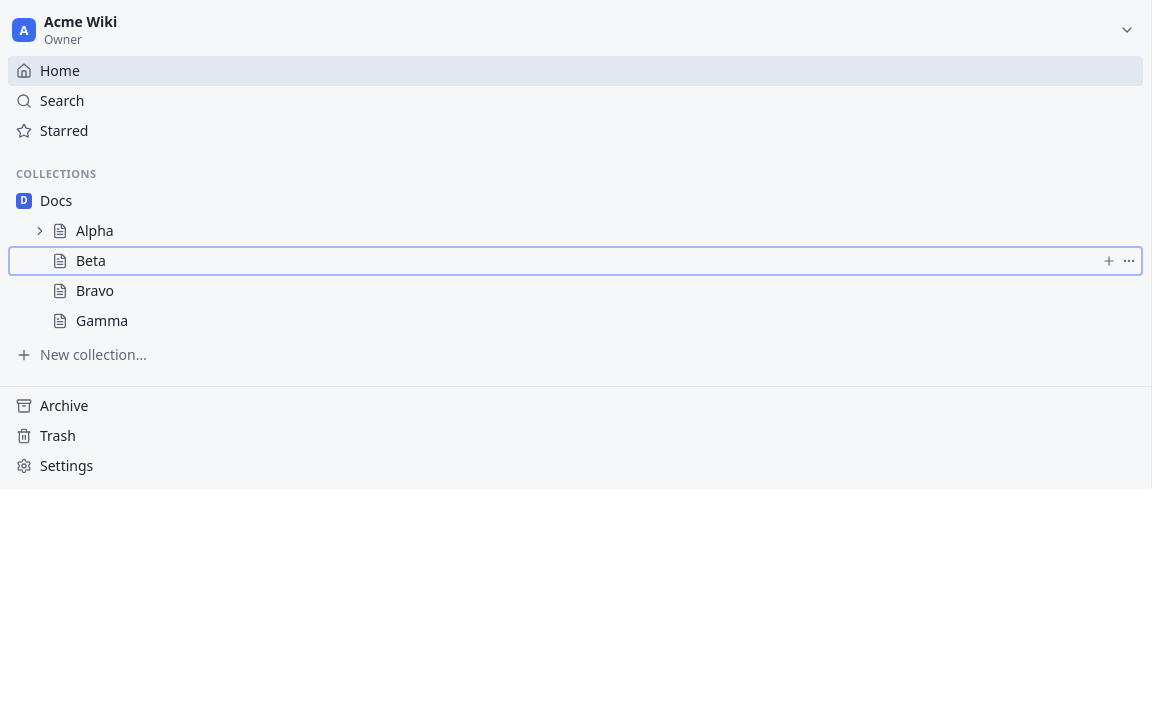
Test: tree keyboard › F2 renames inline: Enter saves, Esc cancels
This screenshot has width=1152, height=720.
Press F2 in the list item "Beta", box [8,246,1143,276]
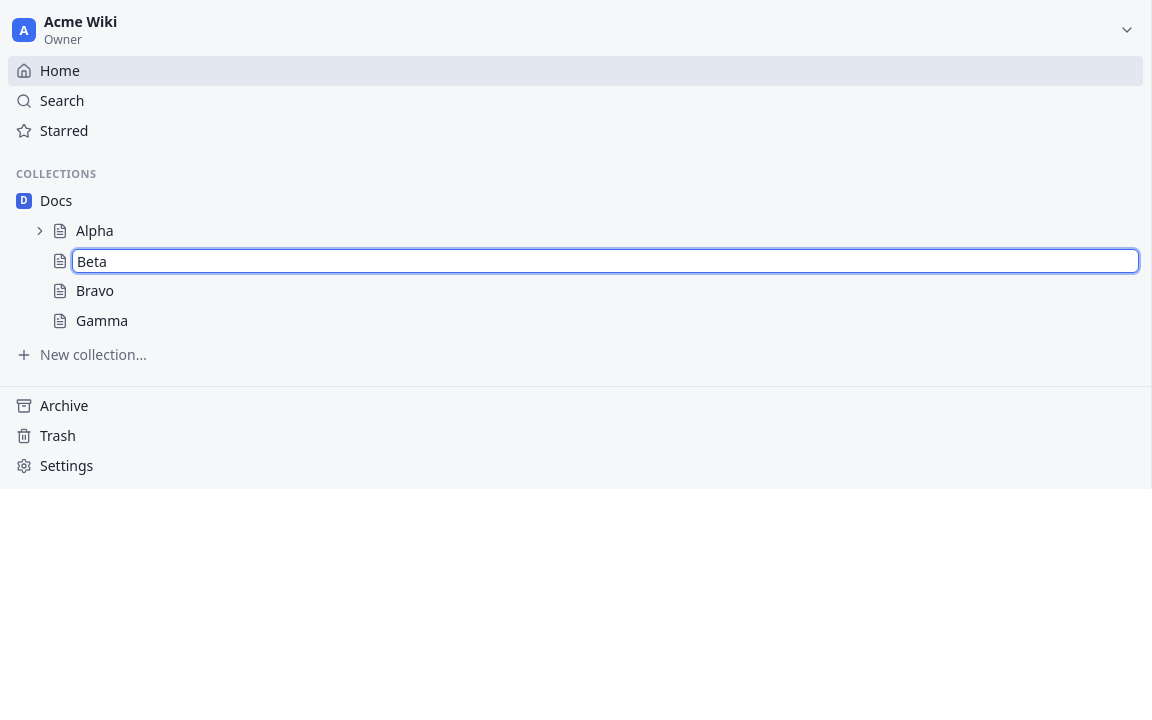
Expected: the field named "title" holds "Beta"
Replace the text in the field named "title" with "Beta renamed" at (606, 261), box [72,249,1139,273]
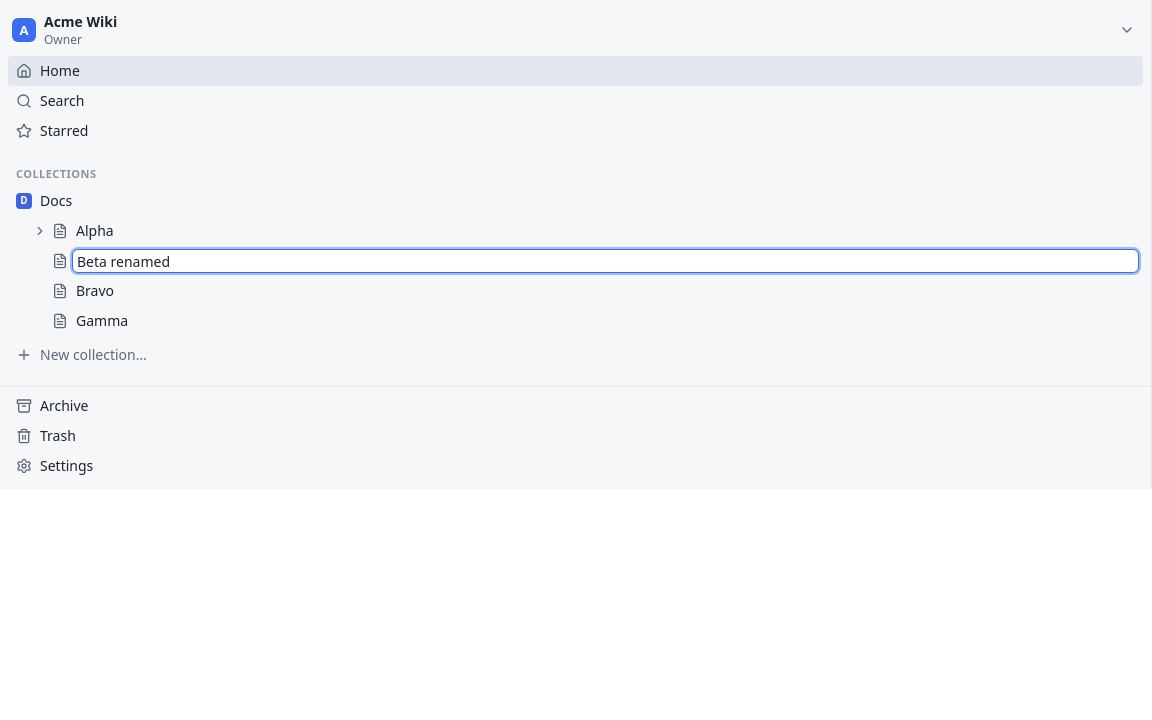
Press Enter in the field named "title", box [72,249,1139,273]
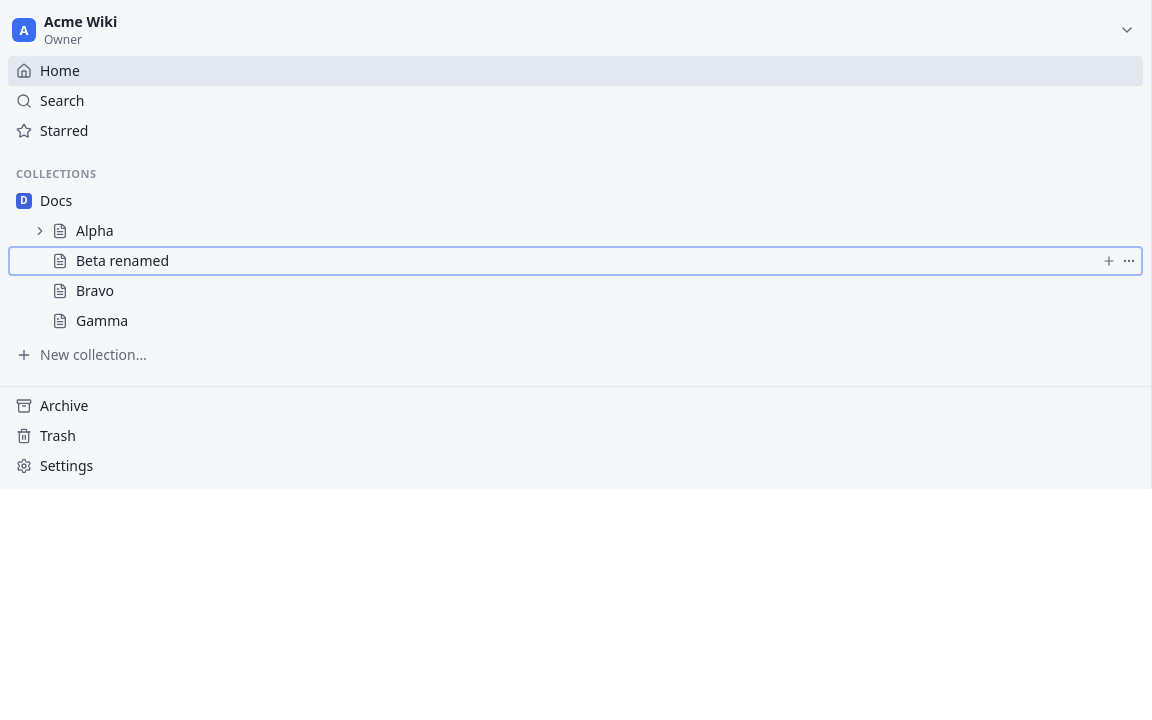
Expected: the list item "Beta renamed" is shown, [8,246,1143,276]
Press F2 in the list item "Gamma", box [52,311,128,330]
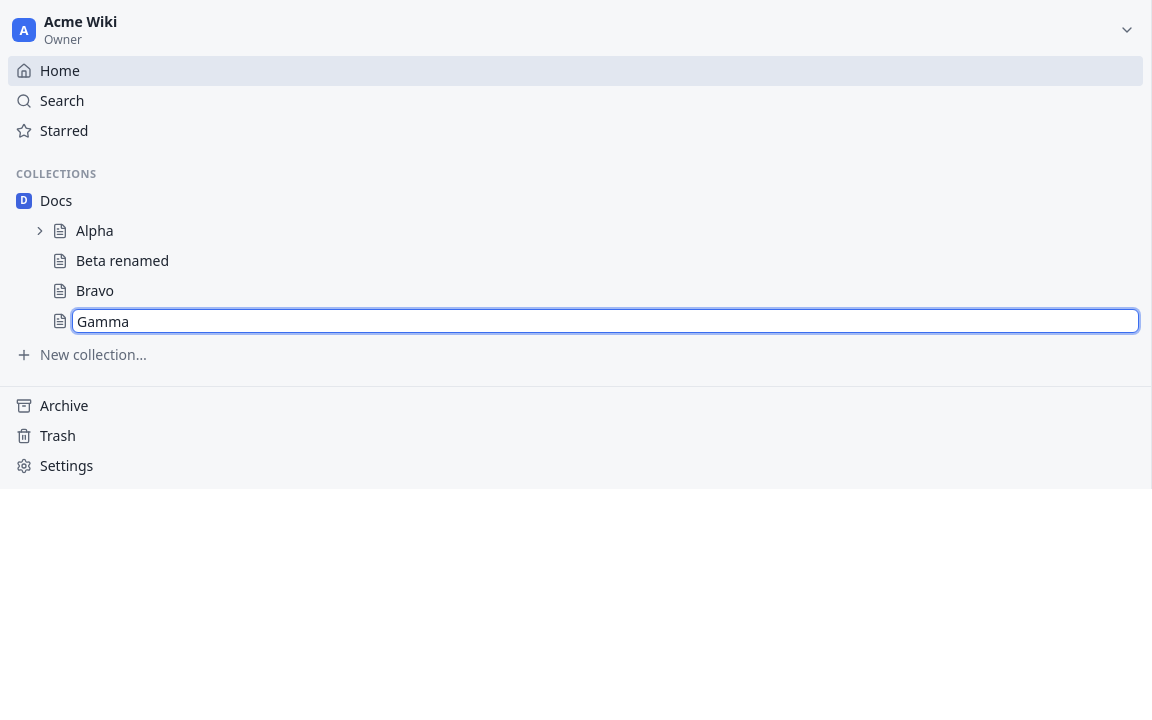
Replace the text in the field named "title" with "nope" at (606, 321), box [72,309,1139,333]
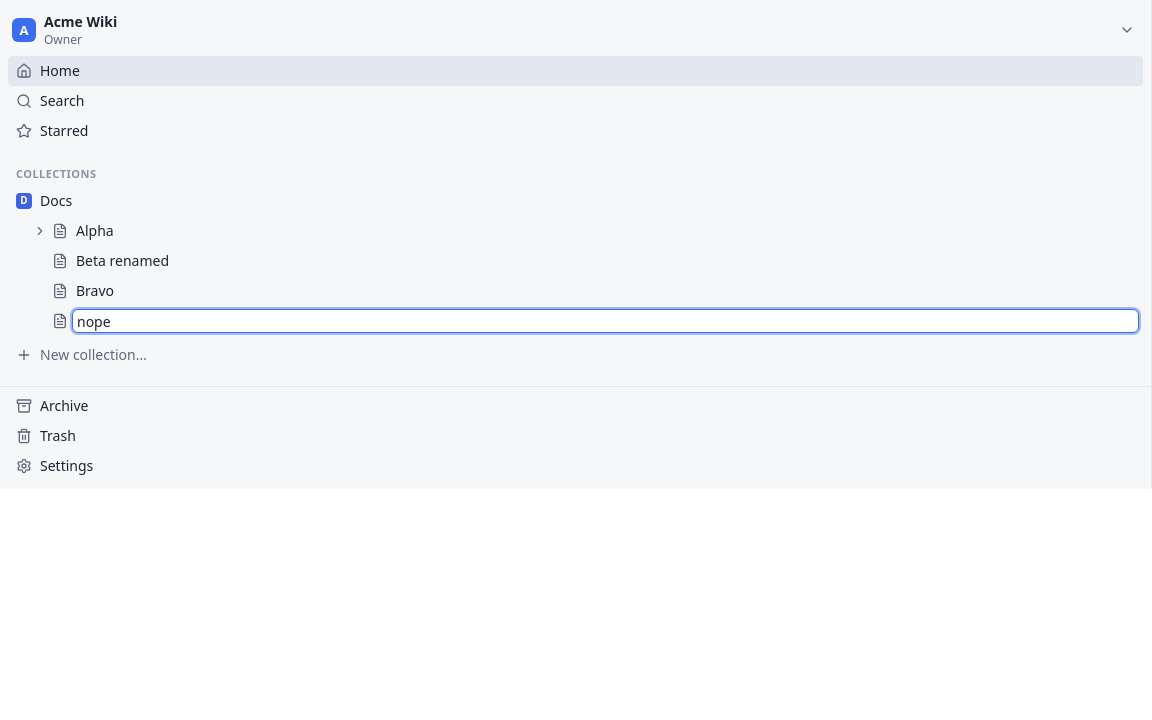
Press Escape in the field named "title", box [72,309,1139,333]
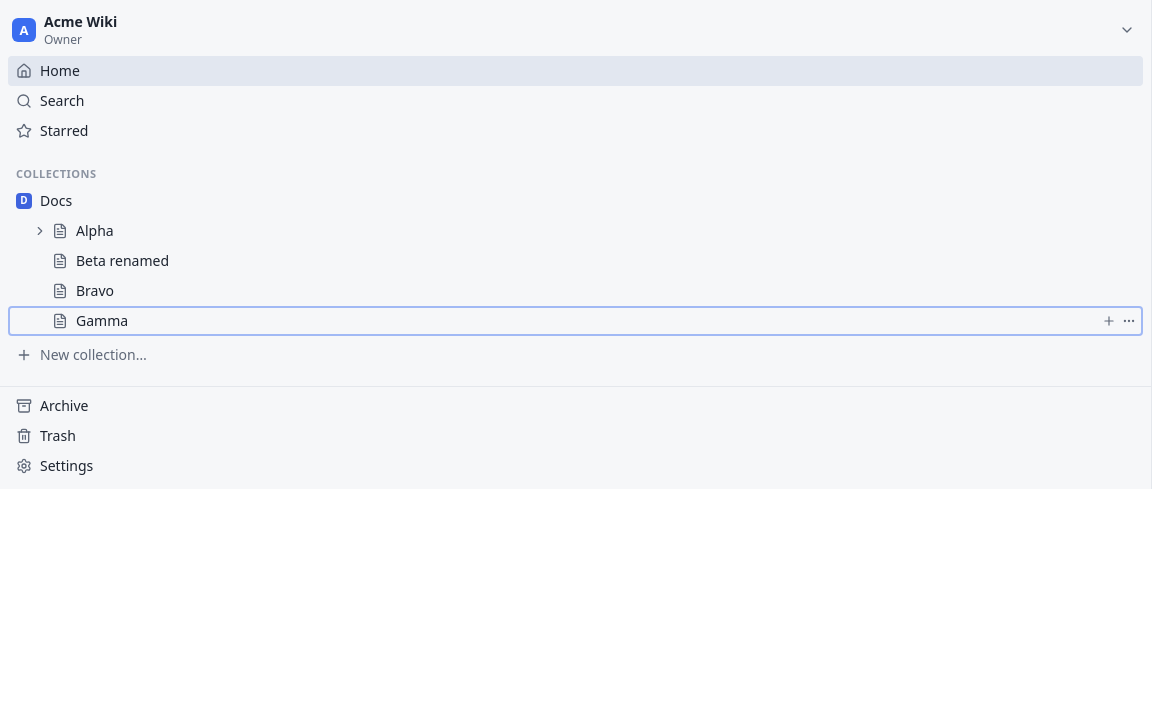
Expected: the field labelled "Title" is gone
Expected: the link "Gamma" is shown, [76,311,128,330]
